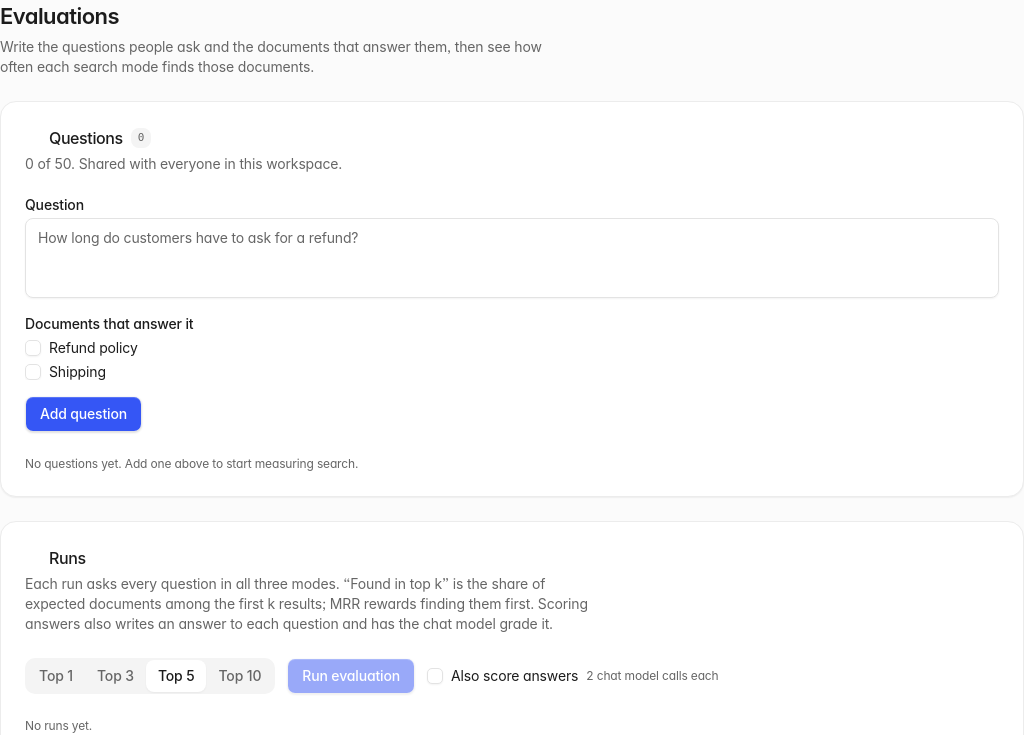
EvaluationsContainer (mocked API) › a question needs a document; then it is posted with the chosen one
The width and height of the screenshot is (1024, 735).
Expected: the text "No questions yet. Add one above to start measuring search." is shown, [25, 456, 358, 471]
Expected: the button "Run evaluation" is disabled, [287, 658, 415, 694]
In the text box labelled "Question": point(512, 258) [25, 218, 999, 298], type "How long do refunds take?"
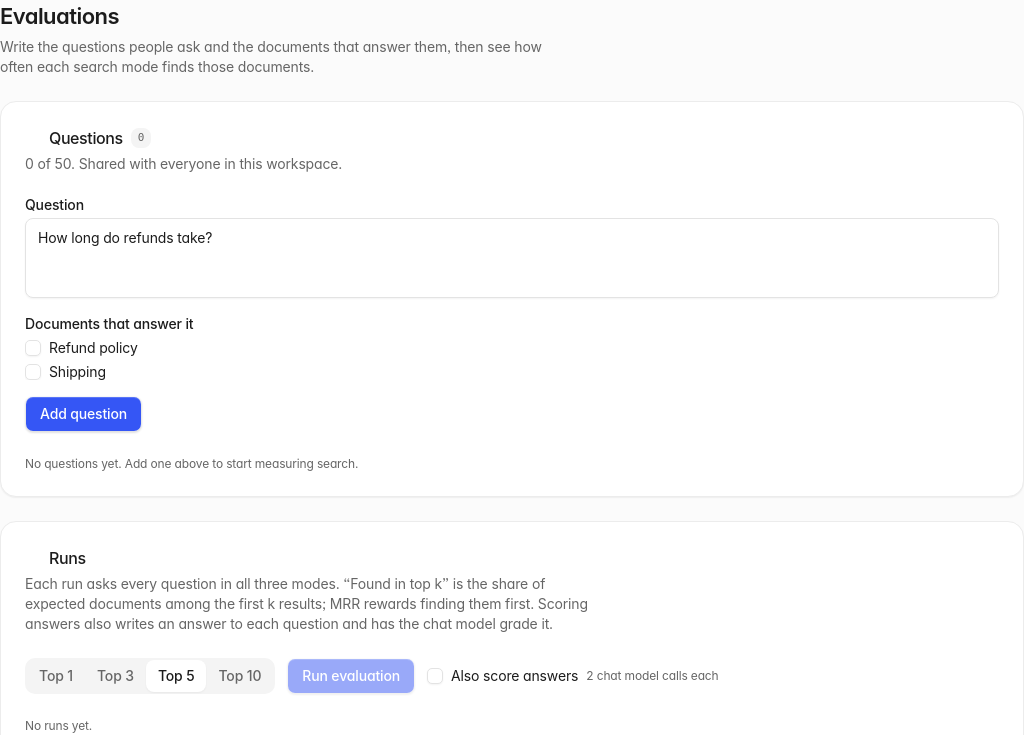
Click the button "Add question": point(84, 414) [25, 396, 142, 432]
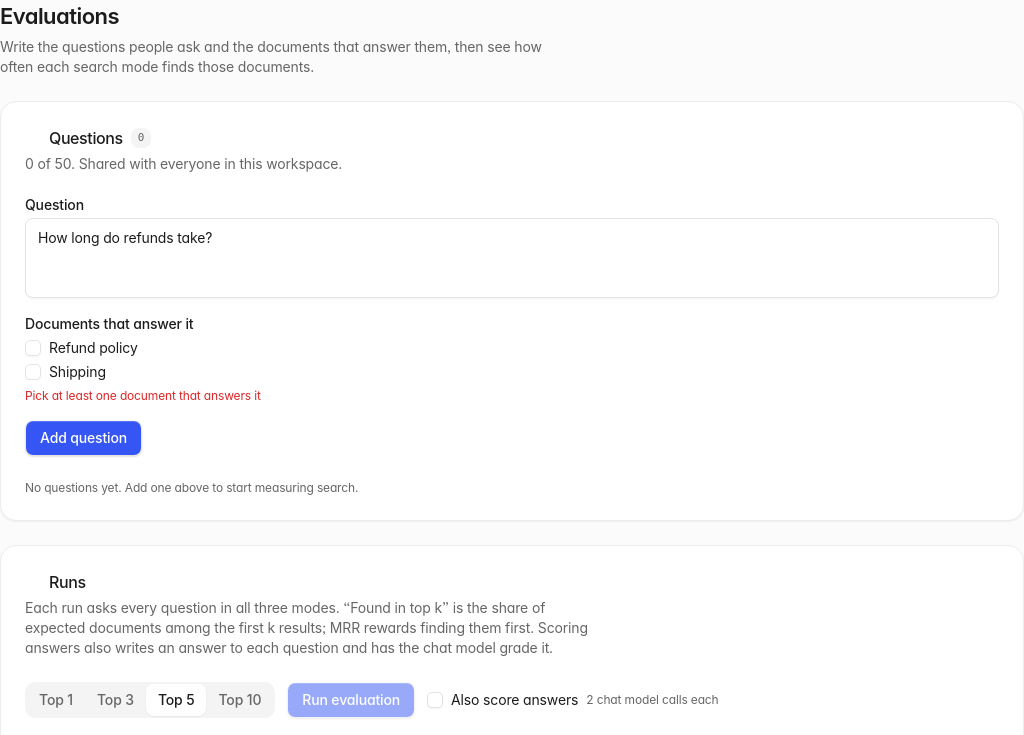
Expected: the text "Pick at least one document that answers it" is shown, [25, 388, 261, 403]
Click the text "Refund policy": point(93, 348) [49, 341, 138, 355]
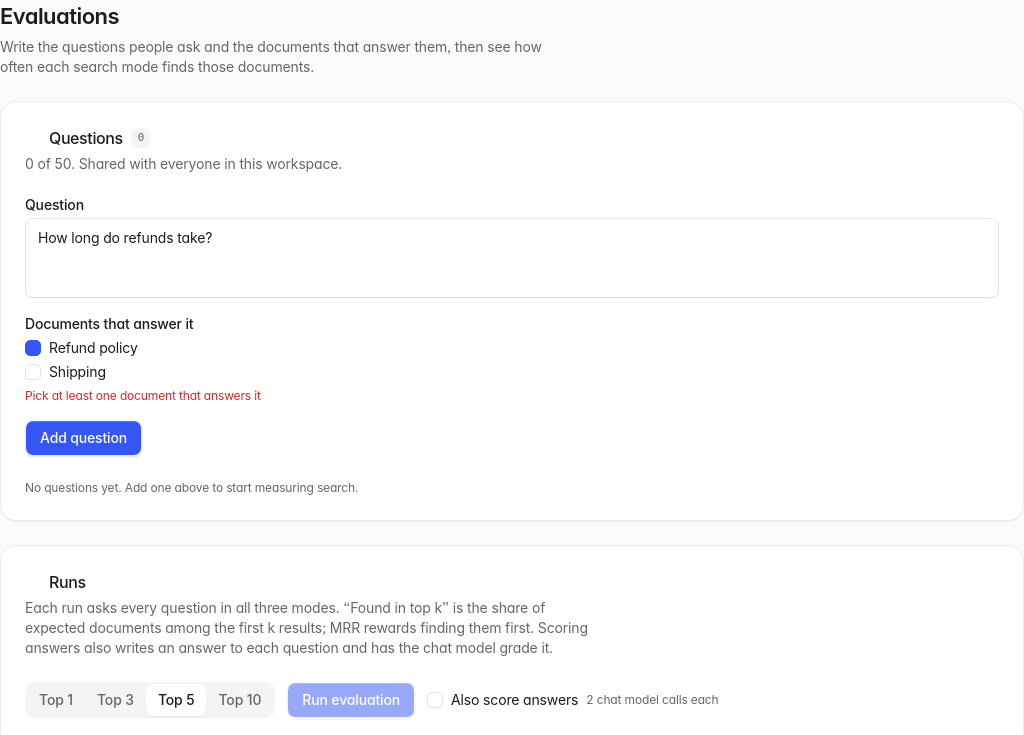
Click the button "Add question": point(84, 438) [25, 420, 142, 456]
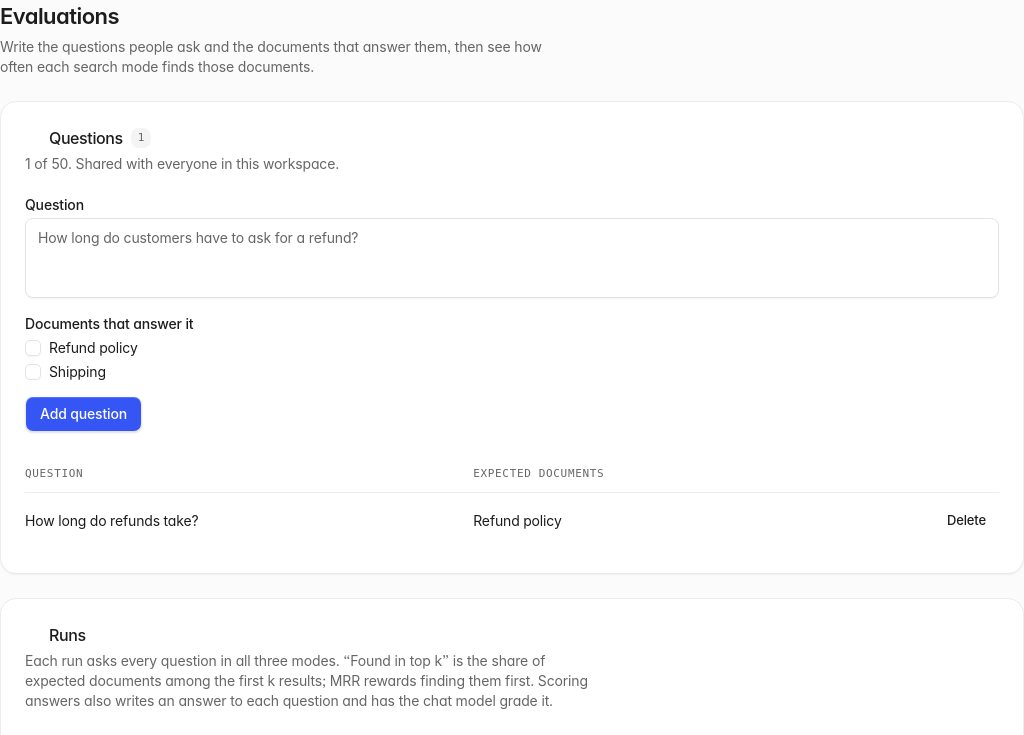
Expected: the text "Refund policy" is shown, [465, 492, 822, 548]
